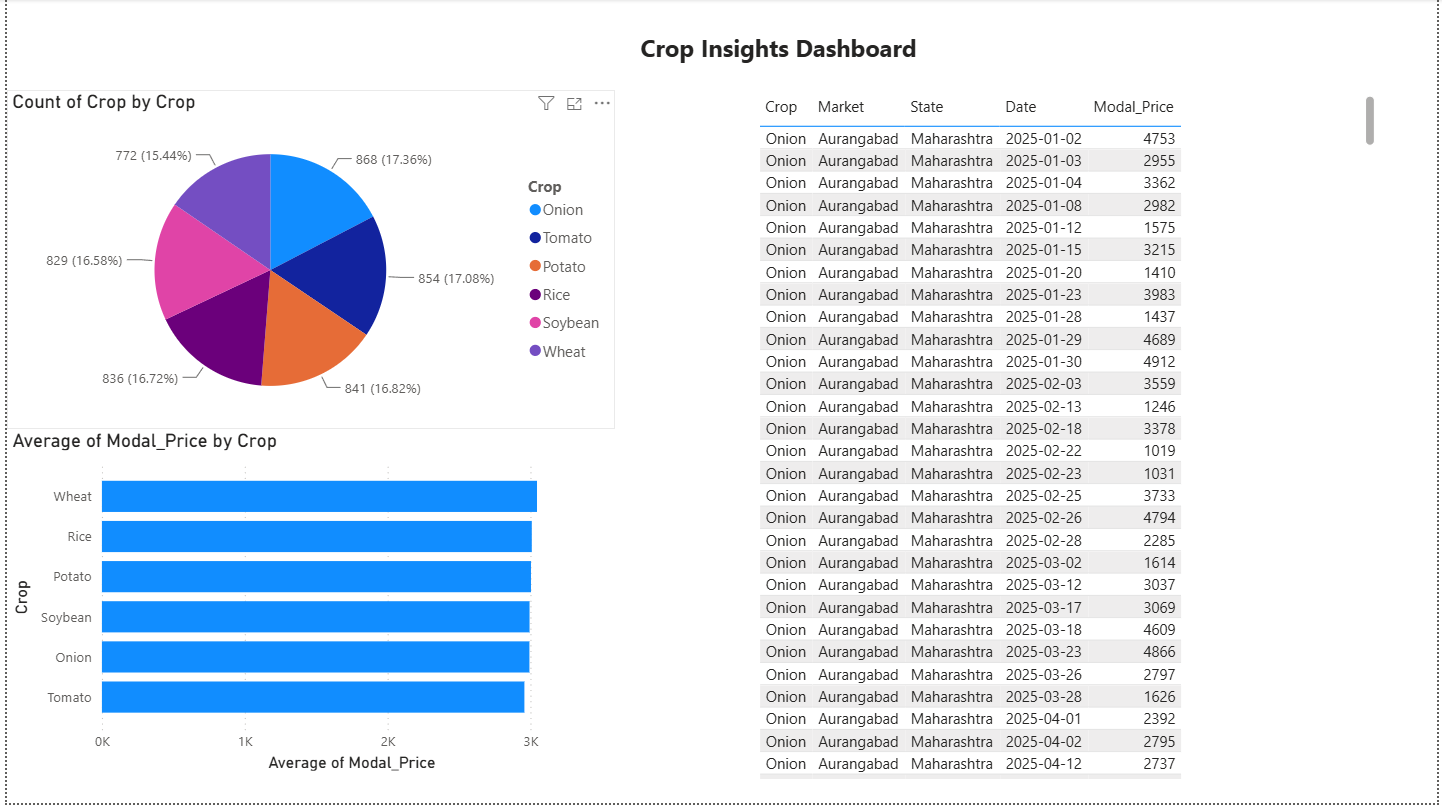

What the dashboard file says about the page in this screenshot:
{"tool":"powerbi","page":{"name":"Page 2","canvas":[1280,720],"ordinal":1},"visuals":[{"type":"pieChart","fields":{"Category":["public crop_prices.Crop"],"Y":["CountNonNull(public crop_prices.Crop)"]},"box":[0,81.7,544.7,303.5],"z":0},{"type":"clusteredBarChart","fields":{"Category":["public crop_prices.Crop"],"Y":["Avg(public crop_prices.Modal_Price)"]},"box":[0,385.2,544.7,311.2],"z":1000},{"type":"tableEx","fields":{"Values":["public crop_prices.Crop","public crop_prices.Market","public crop_prices.State","public crop_prices.Date","public crop_prices.Modal_Price"]},"box":[668.2,81.7,562.2,622.5],"z":1001},{"type":"textbox","box":[469.8,24.3,441.6,46.7],"z":1002}]}

Visuals, with their boxes in screenshot pixels (x1, y1, x2, y2), scaled from the page's 1280x720 canvas onto the 1442x809 screenshot:
pieChart - public crop_prices.Crop x CountNonNull(public crop_prices.Crop): bbox(0, 92, 614, 433)
clusteredBarChart - public crop_prices.Crop x Avg(public crop_prices.Modal_Price): bbox(0, 433, 614, 782)
tableEx - public crop_prices.Crop x public crop_prices.Market: bbox(753, 92, 1386, 791)
textbox: bbox(529, 27, 1027, 80)
